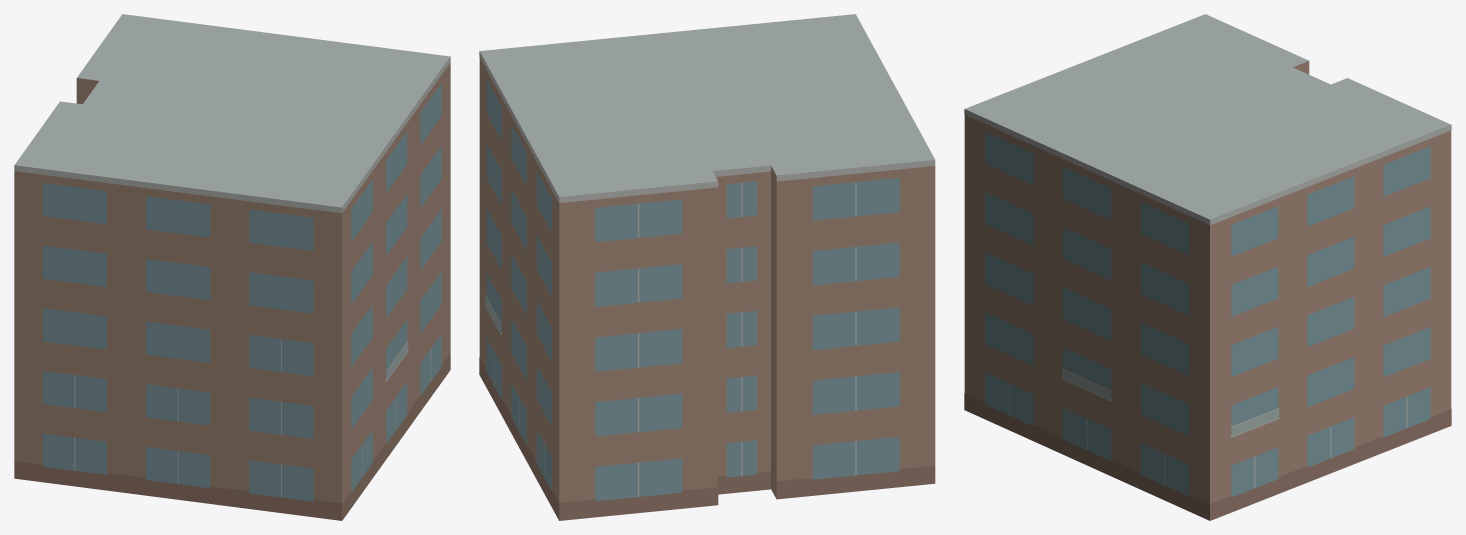
Rendered from survey-upis-33009551.glb.
3 views of the same model, side by side, from view 1: azimuth 30°, elevation 25°; view 2: azimuth 150°, elevation 25°; view 3: azimuth 270°, elevation 25° (orthographic). The views are drawn at different scales.
Parts seen in each view (by area): view 1: survey-upis-33009551.tmp; view 2: survey-upis-33009551.tmp; view 3: survey-upis-33009551.tmp.
Part boxes in pixels (bbox=[...]): survey-upis-33009551.tmp: bbox=[14, 14, 450, 520]; survey-upis-33009551.tmp: bbox=[479, 14, 935, 520]; survey-upis-33009551.tmp: bbox=[964, 14, 1451, 520].
Bounding box in the file's own units: 19.28 × 13.15 × 19.27.
